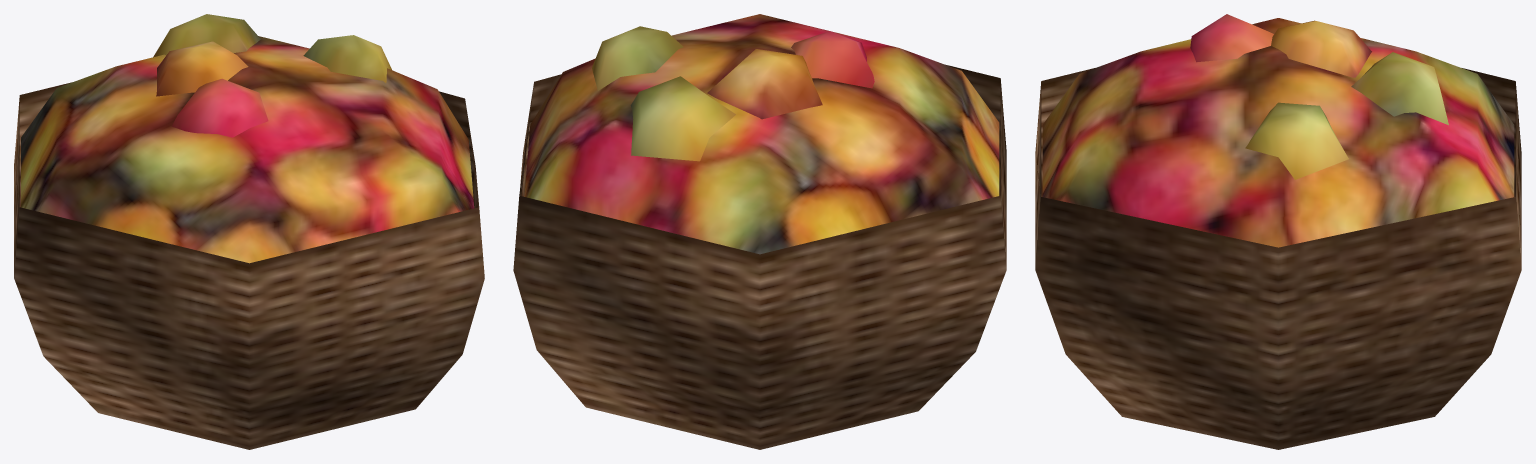
File: mangobasket.fbx
The picture shows the model from 3 angles, left to right: view 1: azimuth 30°, elevation 25°; view 2: azimuth 150°, elevation 25°; view 3: azimuth 270°, elevation 25°; orthographic projection. The views are drawn at different scales.
Parts seen in each view (by area): view 1: lod_high, pSphere1, pSphere5, pSphere2, pSphere3, pSphere4; view 2: lod_high, pSphere1, pSphere4, pSphere2, pSphere3, pSphere5; view 3: lod_high, pSphere1, pSphere3, pSphere4, pSphere2, pSphere5.
Part boxes in pixels (box(x1,y1,x2,y2)): lod_high: box(14, 82, 484, 449); pSphere1: box(21, 36, 474, 263); pSphere5: box(171, 78, 268, 137); pSphere2: box(156, 41, 248, 96); pSphere3: box(303, 35, 391, 82); pSphere4: box(153, 14, 260, 57); lod_high: box(513, 65, 1006, 449); pSphere1: box(524, 14, 999, 254); pSphere4: box(630, 76, 735, 161); pSphere2: box(707, 49, 822, 119); pSphere3: box(592, 26, 683, 90); pSphere5: box(791, 31, 874, 88); lod_high: box(1035, 68, 1521, 449); pSphere1: box(1042, 18, 1514, 247); pSphere3: box(1245, 102, 1348, 179); pSphere4: box(1351, 52, 1448, 125); pSphere2: box(1271, 20, 1371, 77); pSphere5: box(1190, 14, 1273, 62).
Bounding box in the file's own units: 91.82 × 61.39 × 81.1.
Materials: 1 (1 with a texture image).
